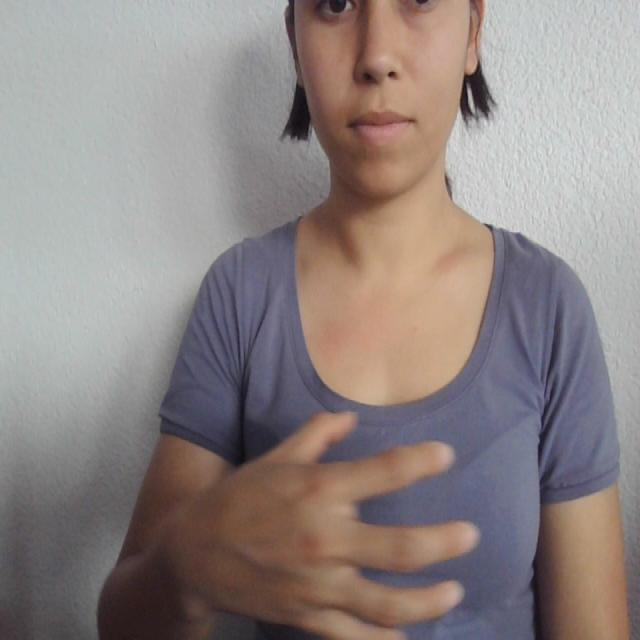Anne: (188, 399, 538, 640)
